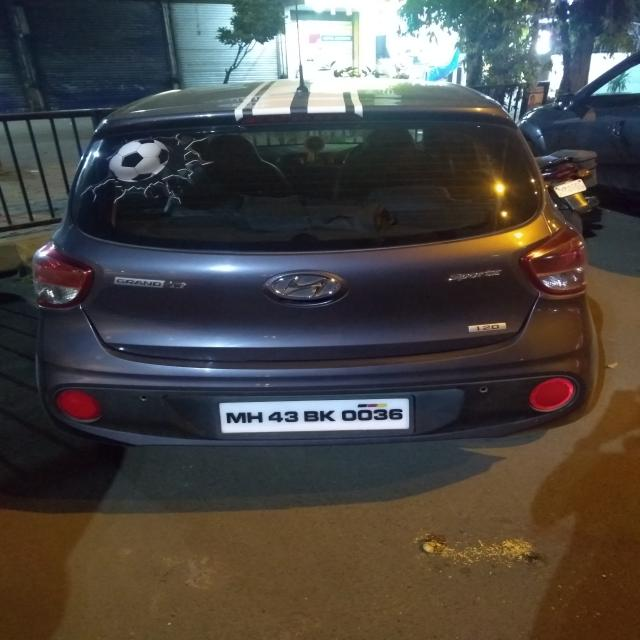Number-Plate: (222, 398, 415, 432)
